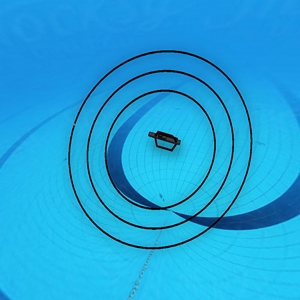circle: (68, 49, 253, 252)
submarine: (148, 128, 181, 152)
